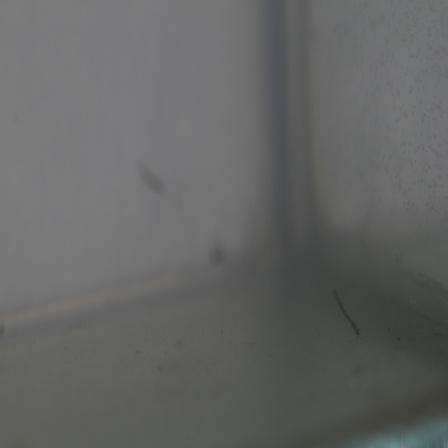Jentik-Nyamuk: (330, 287, 365, 339)
